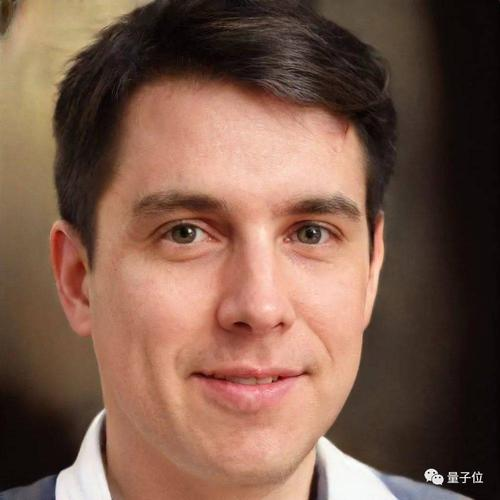no_mask: (84, 72, 382, 483)
